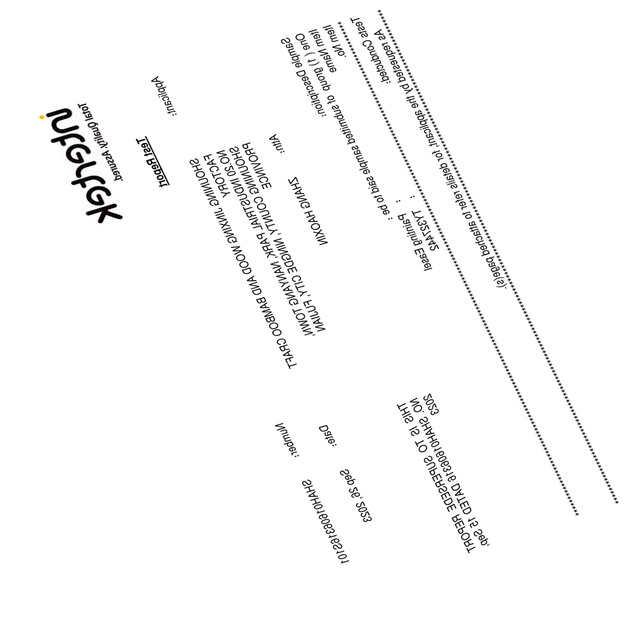intertek: (36, 101, 130, 229)
